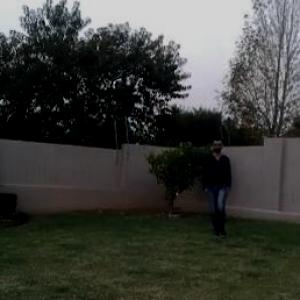follow: (201, 138, 230, 236)
